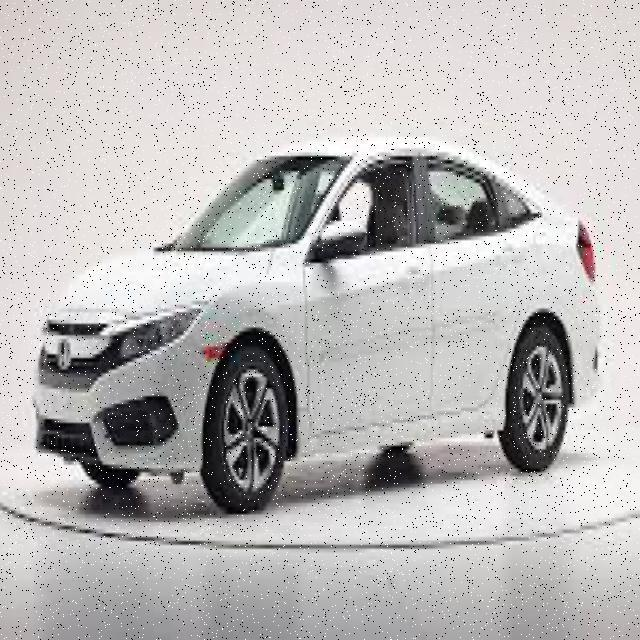bumper: (192, 271, 310, 389)
